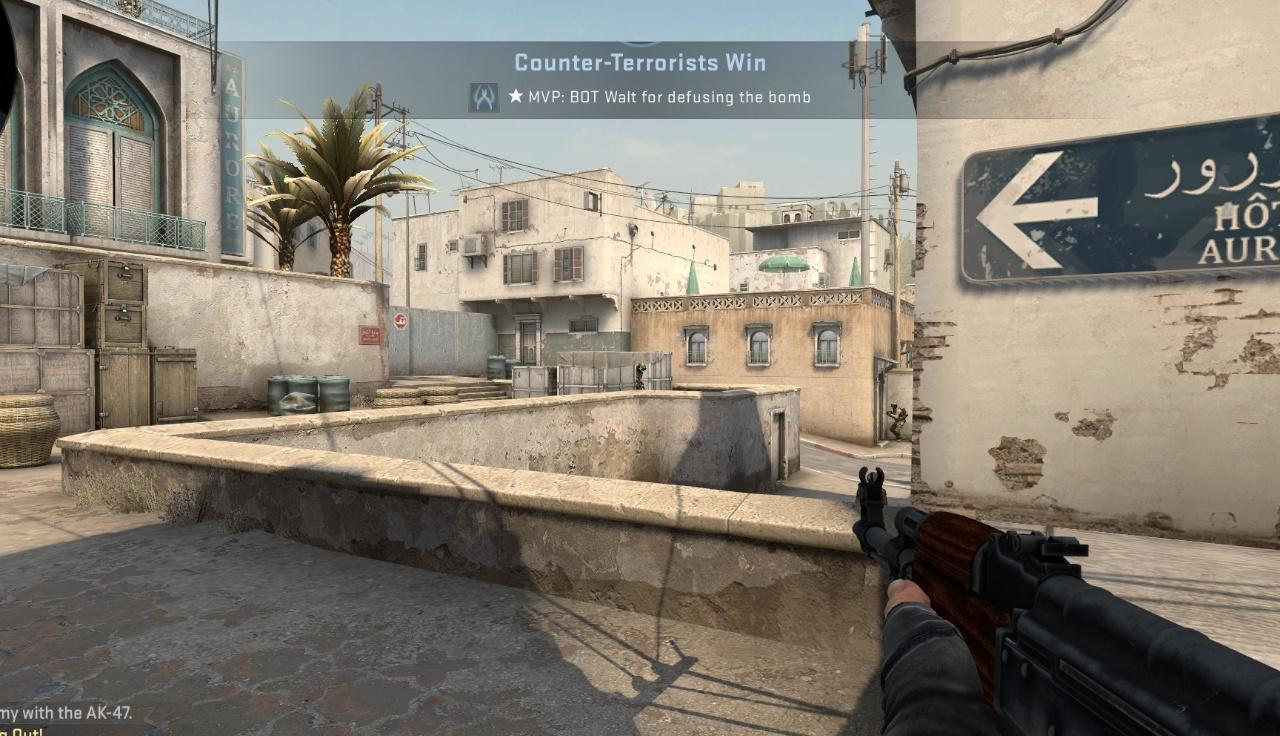ct: (890, 403, 907, 442), (636, 363, 647, 390)
cthead: (638, 364, 645, 373), (891, 403, 897, 410)
rifle: (853, 465, 1280, 736)
